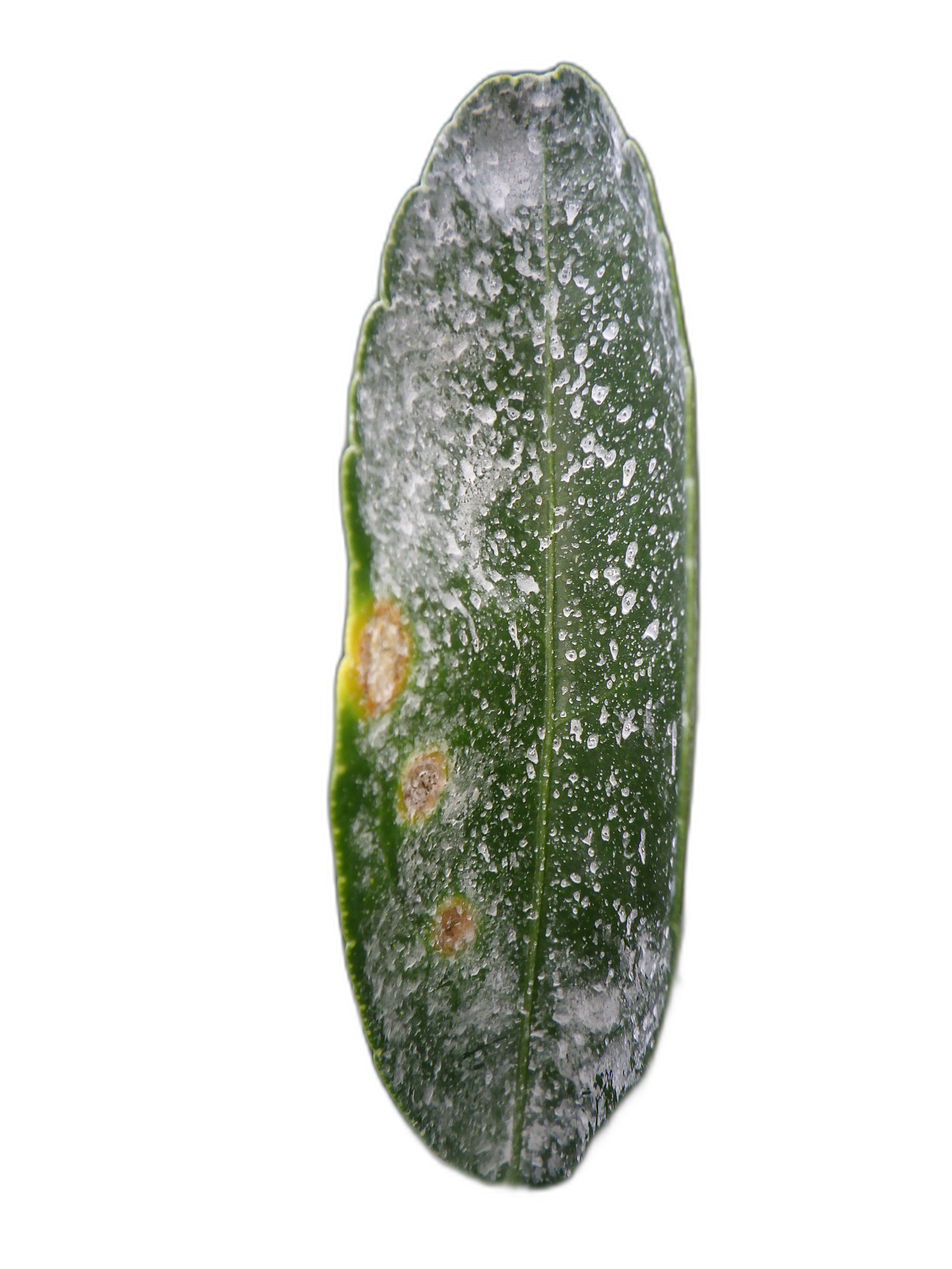Canker: (357, 600, 408, 716), (399, 750, 447, 822), (433, 895, 475, 955)
